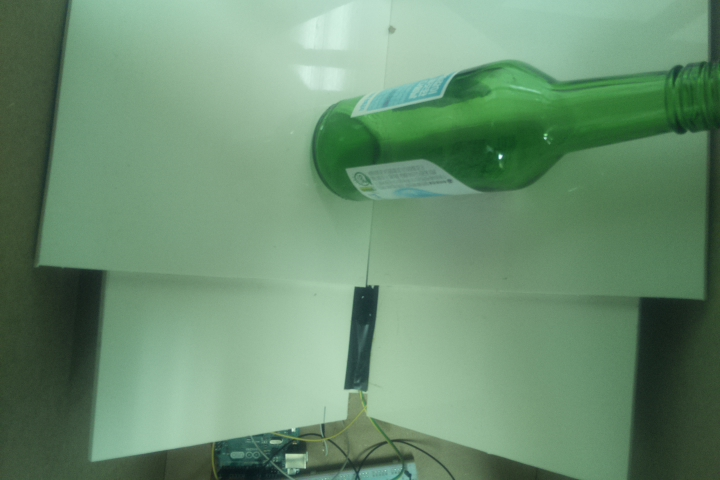soju: (312, 54, 720, 207)
